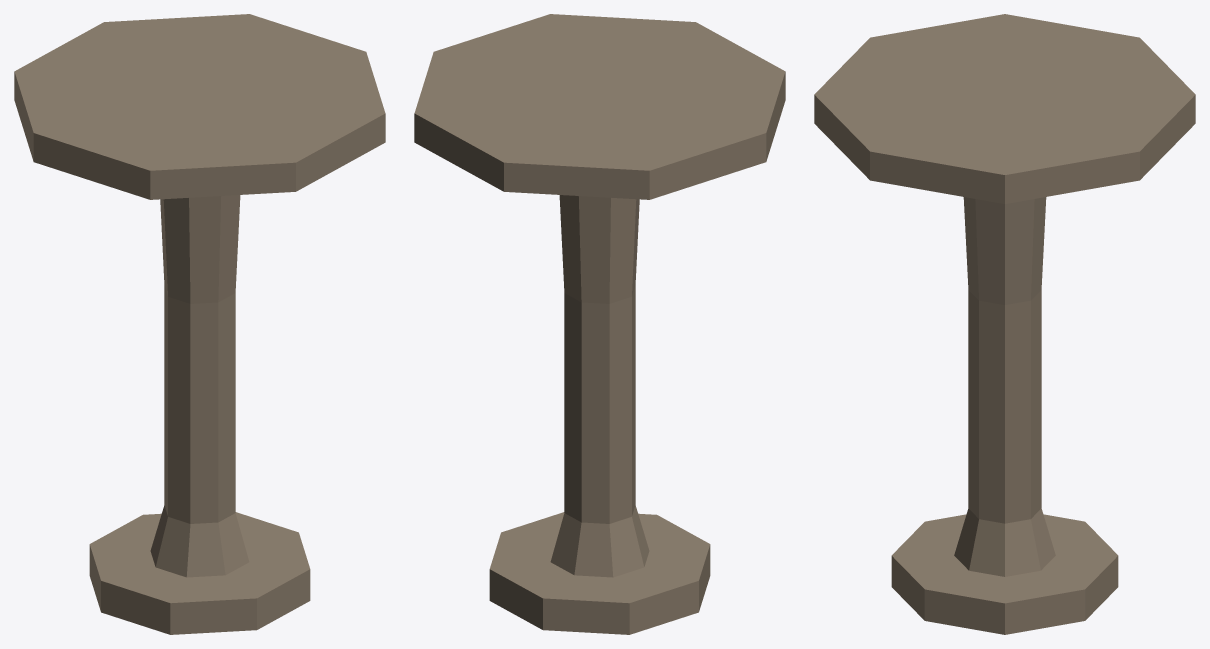
The model's file is Stool.002.fbx.
3 views of the same model, side by side, from view 1: azimuth 30°, elevation 25°; view 2: azimuth 150°, elevation 25°; view 3: azimuth 270°, elevation 25° (orthographic).
Parts seen in each view (by area): view 1: Stool.002; view 2: Stool.002; view 3: Stool.002.
Part boxes in pixels (x1,y1,x2,y2): Stool.002: (14,14,385,634); Stool.002: (414,14,785,634); Stool.002: (814,14,1195,634).
Size of the model in its own units: 60.11 by 85.64 by 60.11.
